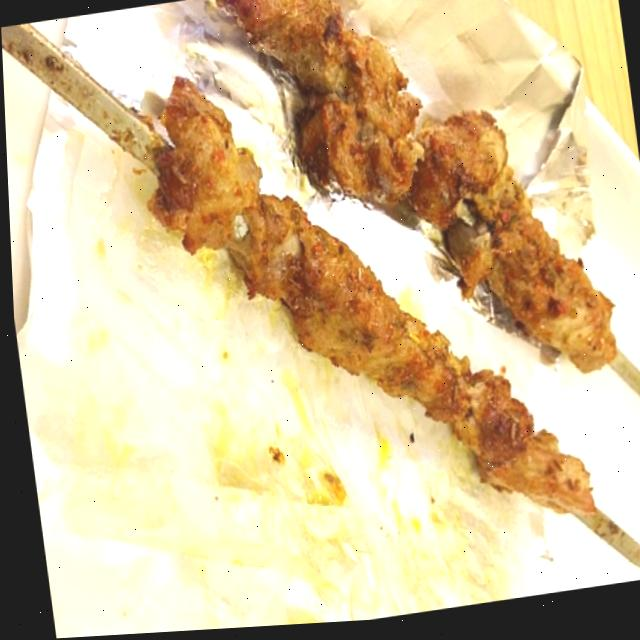烧串烤肉: (16, 0, 640, 622)
